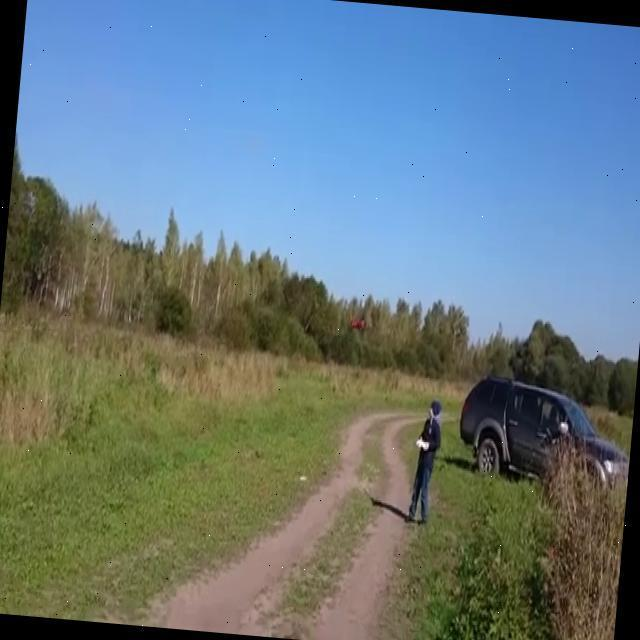Drons: (344, 312, 366, 334)
